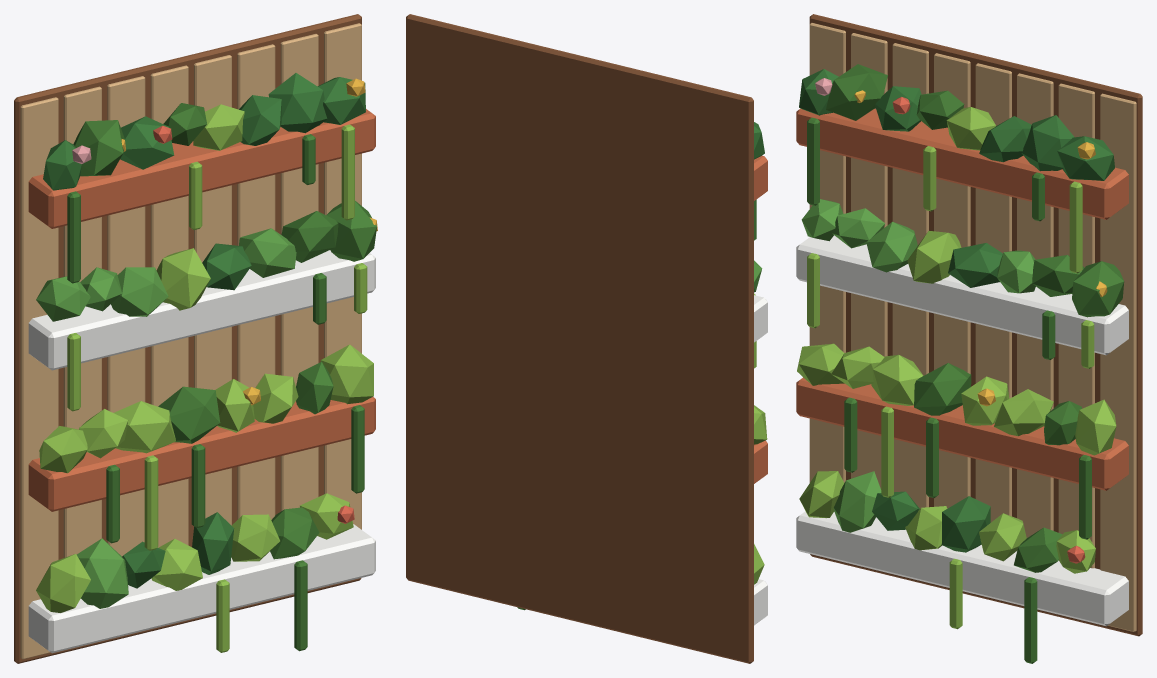
Rendered from wall_plant.glb.
3 views of the same model, side by side, from view 1: azimuth 30°, elevation 25°; view 2: azimuth 150°, elevation 25°; view 3: azimuth 330°, elevation 25° (orthographic). The views are drawn at different scales.
Parts seen in each view (by area): view 1: wall_plant_Body; view 2: wall_plant_Body; view 3: wall_plant_Body.
Part boxes in pixels (left/top/right/bottom): wall_plant_Body: left=14, top=14, right=377, bottom=663; wall_plant_Body: left=406, top=14, right=767, bottom=663; wall_plant_Body: left=796, top=14, right=1142, bottom=663.
Bounding box in the file's own units: 1.1 × 1.8 × 0.2.
